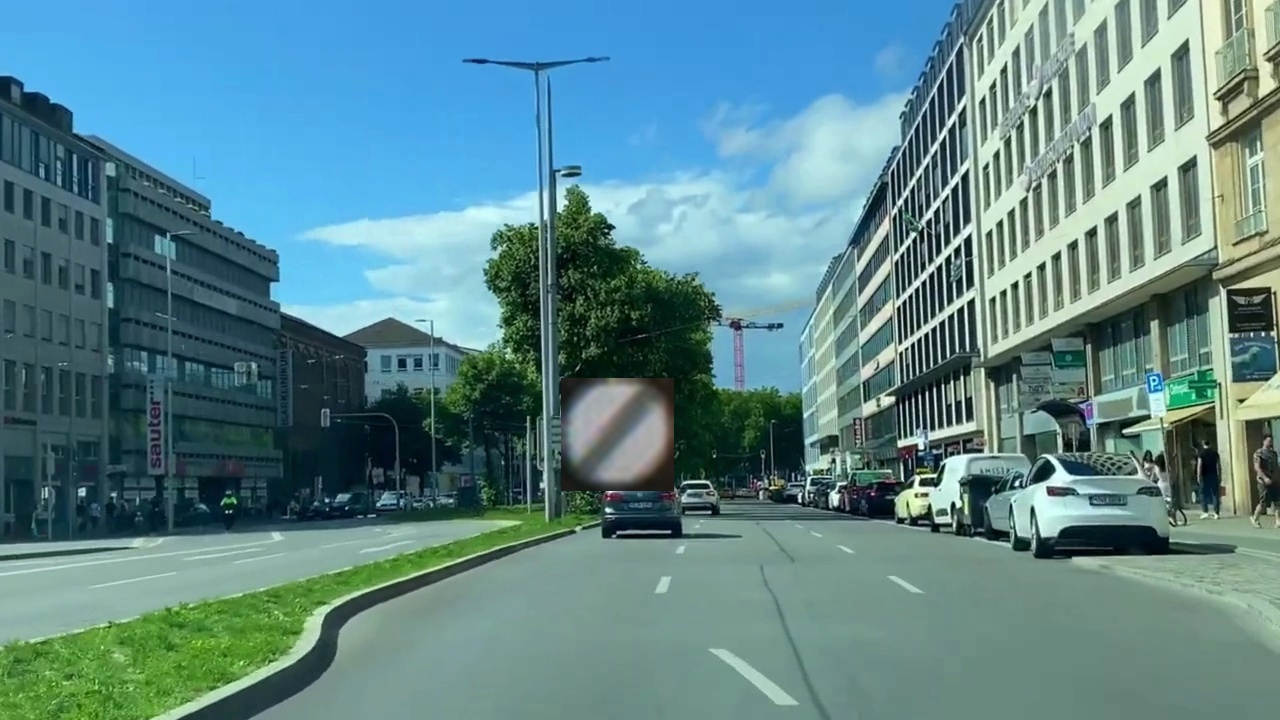End limits: (561, 378, 674, 491)
